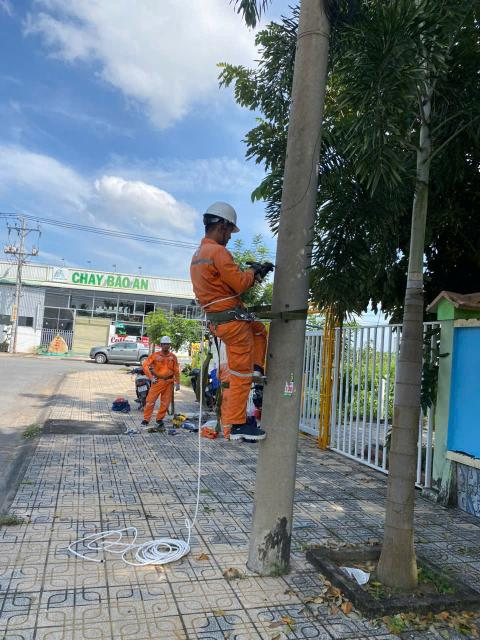gloves: (249, 257, 272, 288), (148, 373, 162, 387), (172, 382, 186, 393)
helmet: (199, 201, 250, 238), (148, 333, 178, 349)
shoes: (221, 418, 268, 448), (252, 362, 268, 389), (155, 416, 172, 427), (134, 418, 152, 427)
